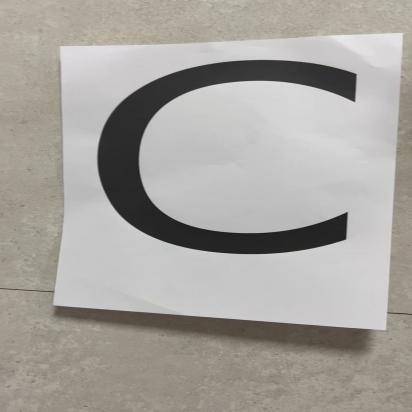seat: (63, 45, 390, 319)
